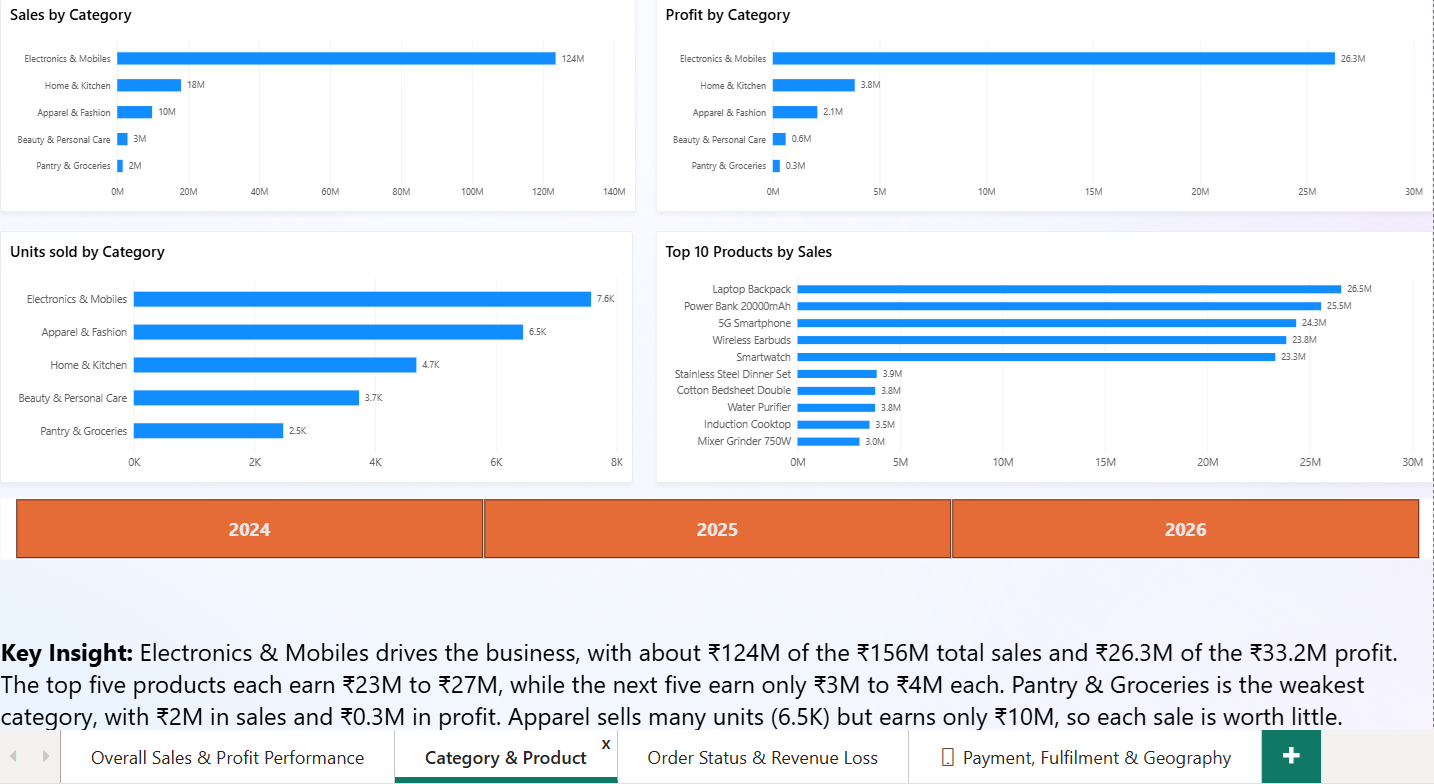

What the dashboard file says about the page in this screenshot:
{"tool":"powerbi","page":{"name":"Category & Product","canvas":[1920,1080],"ordinal":1},"visuals":[{"type":"clusteredBarChart","title":"Sales by Category","fields":{"Category":["sales.Category"],"Y":["sales.Total Sales"]},"box":[9.1,0,847.2,290.7],"z":0},{"type":"clusteredBarChart","title":"Profit by Category","fields":{"Category":["sales.Category"],"Y":["sales.Total Profit"]},"box":[883.5,0,1035.7,290.7],"z":1},{"type":"clusteredBarChart","title":"Units sold by Category","fields":{"Category":["sales.Category"],"Y":["sales.Total Units"]},"box":[9.1,315.7,842.7,336.2],"z":2},{"type":"clusteredBarChart","title":"Top 10 Products by Sales","fields":{"Category":["sales.Product"],"Y":["sales.Total Sales"]},"box":[883.5,315.7,1035.7,336.2],"z":3},{"type":"slicer","fields":{"Values":["sales.Year"]},"box":[9.1,672.3,1910.2,81.8],"z":4},{"type":"textbox","box":[9.1,854,1910.2,224.9],"z":5}]}

Visuals, with their boxes on the page's 1920x1080 design canvas (x1, y1, x2, y2). These are canvas units, not pixel positions in the 1434x784 screenshot, which may show the page scaled, cropped or inside an application window:
"Sales by Category" clusteredBarChart: (x1=9, y1=0, x2=856, y2=291)
"Profit by Category" clusteredBarChart: (x1=884, y1=0, x2=1919, y2=291)
"Units sold by Category" clusteredBarChart: (x1=9, y1=316, x2=852, y2=652)
"Top 10 Products by Sales" clusteredBarChart: (x1=884, y1=316, x2=1919, y2=652)
slicer - sales.Year: (x1=9, y1=672, x2=1919, y2=754)
textbox: (x1=9, y1=854, x2=1919, y2=1079)
